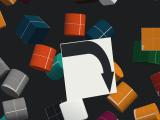Right: (60, 37, 117, 101)
